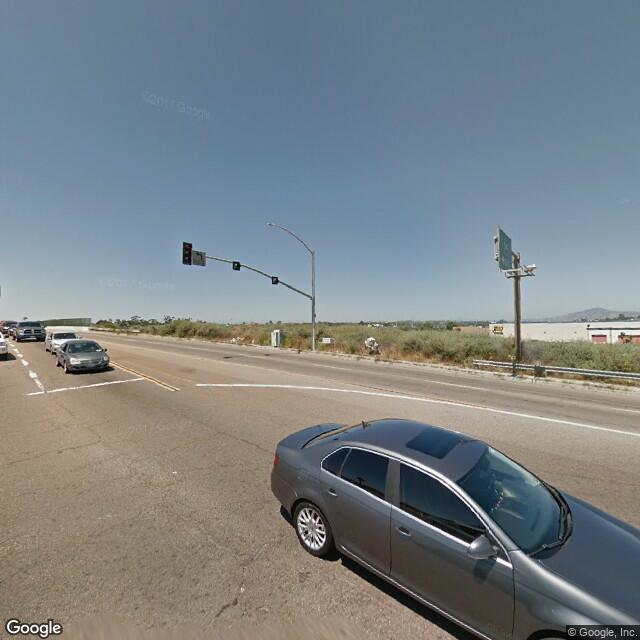litter: (229, 335, 235, 345), (236, 336, 246, 341)
